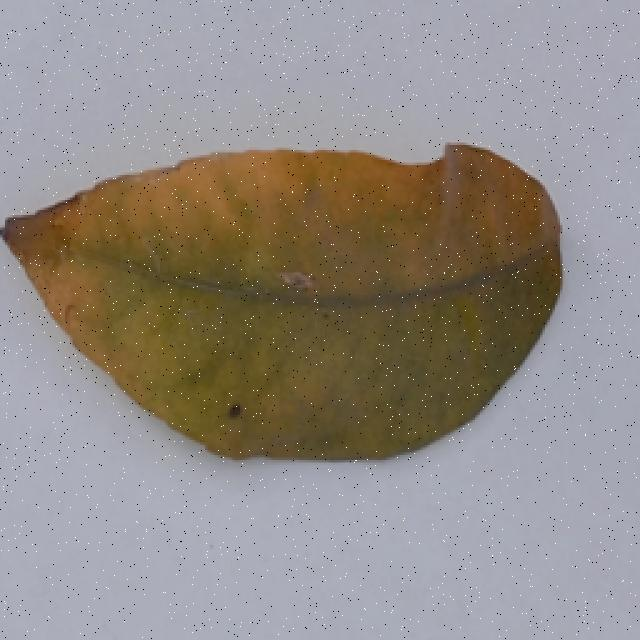greening: (0, 131, 582, 477)
